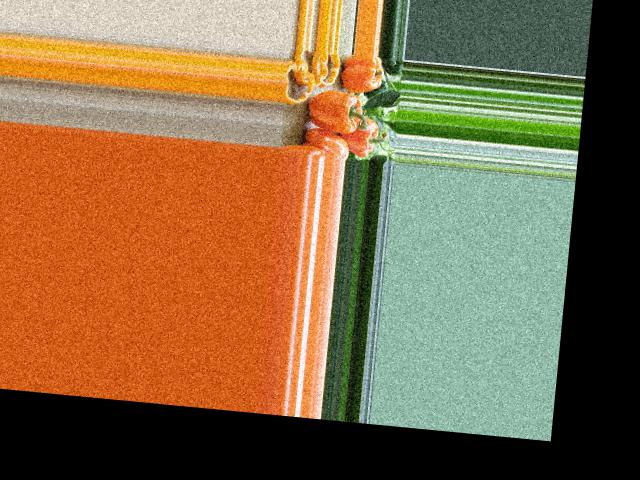bell_pepper: (300, 127, 352, 160)
